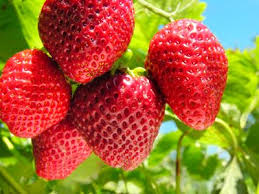strawberry: (68, 69, 167, 171), (145, 21, 230, 131), (37, 1, 136, 82), (1, 49, 73, 140), (31, 112, 95, 185)
